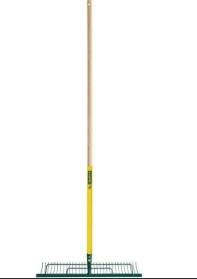RATEAU: (29, 0, 180, 279)
